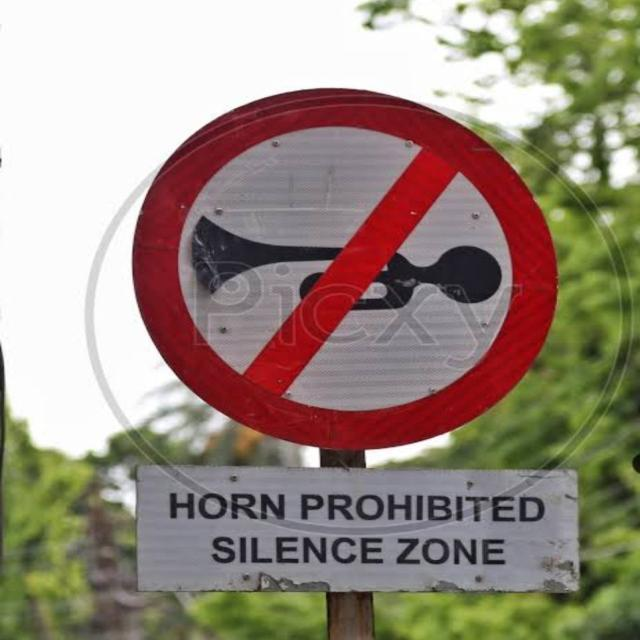horn prohibited: (135, 85, 561, 456)
